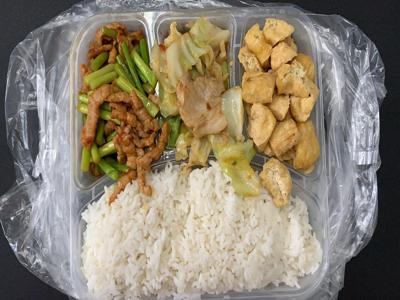rice: (78, 168, 321, 292)
st: (75, 22, 158, 175)
